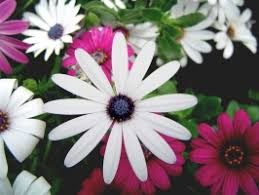flower: (54, 27, 197, 180), (169, 1, 257, 65), (1, 75, 50, 183), (193, 110, 259, 184), (24, 3, 90, 62)
